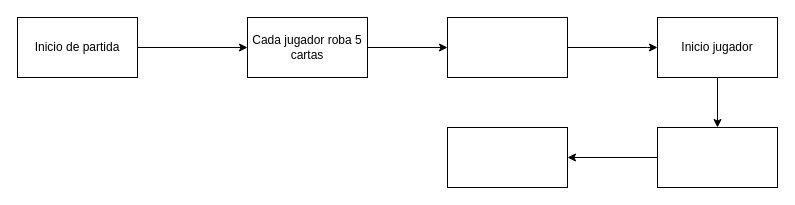
This 795x205 diagram has some shape labels left out. The box of each missing label's shape, as (x1, y1, x2, y2) in pixels:
Se decide que jugador empieza: (446, 16, 568, 78)
Se roba una carta: (656, 126, 778, 188)
